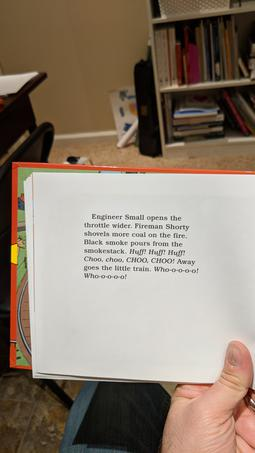text block: (72, 206, 205, 285)
